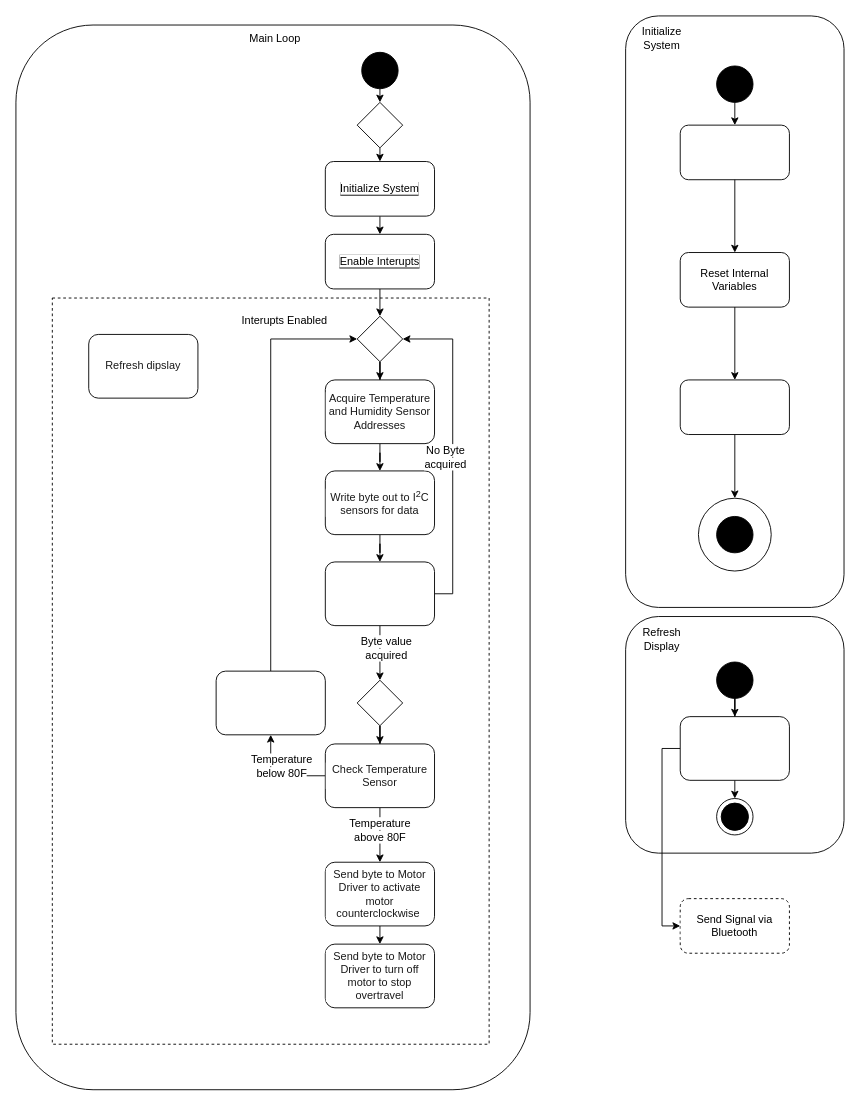
This 860x1106 diagram has some shape labels left out. Here are the shapes that lost their labels. From the top down, the box of each, then its label:
(679, 124, 789, 180): Set Hardware Registers
(679, 379, 789, 435): Establish Communication
(324, 561, 435, 626): Read back byte from I 2 C sensors
(215, 670, 325, 735): Send byte to Motor Driver to activate motor clockwise
(679, 716, 789, 780): Send UART updated to PUTTY
